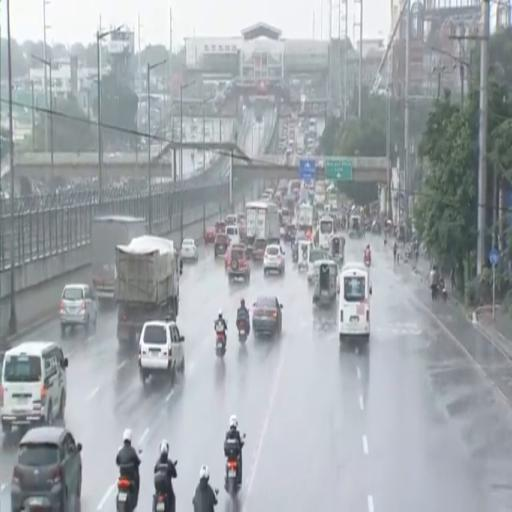bus: (318, 216, 334, 250)
car: (0, 342, 68, 433), (11, 426, 82, 511), (139, 320, 184, 382), (59, 284, 97, 335), (252, 296, 282, 335), (227, 245, 250, 281), (264, 245, 285, 275), (181, 238, 198, 261), (214, 233, 229, 258), (252, 239, 266, 261), (204, 227, 217, 244), (225, 247, 231, 271), (215, 221, 226, 233)
motorcycle: (225, 440, 242, 498), (116, 476, 135, 511), (116, 477, 134, 511), (153, 492, 171, 511), (237, 318, 248, 342), (216, 331, 226, 357), (193, 495, 203, 511), (439, 281, 447, 301), (431, 285, 438, 301), (364, 253, 371, 267), (364, 259, 371, 267)
truck: (116, 235, 182, 343), (91, 216, 146, 300), (246, 201, 279, 250), (296, 202, 314, 230)
